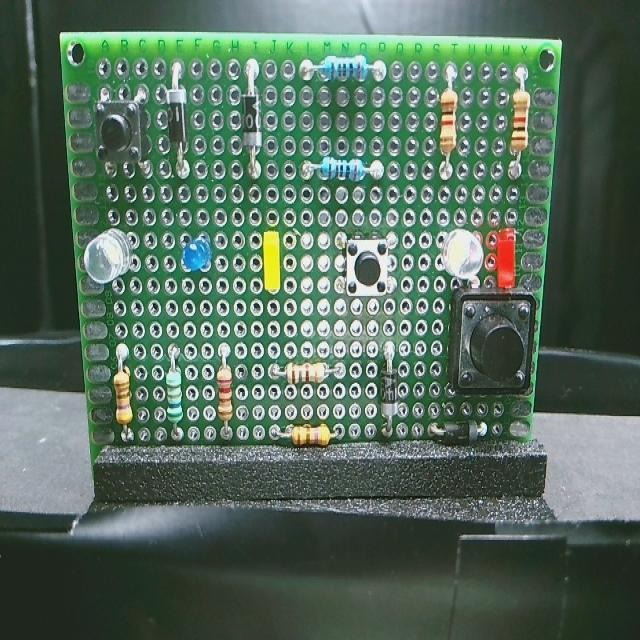diode: (370, 349, 406, 435), (238, 89, 273, 159), (162, 83, 194, 151), (422, 423, 487, 454)
led: (420, 227, 492, 286), (85, 222, 134, 288), (492, 224, 528, 288), (256, 228, 288, 286), (181, 230, 218, 272)
resistor: (295, 36, 377, 89), (100, 354, 140, 432), (305, 147, 376, 186), (436, 79, 462, 178), (278, 418, 336, 458), (206, 355, 238, 422), (156, 356, 187, 424), (506, 75, 530, 162), (278, 356, 326, 392)
switch: (449, 286, 533, 395), (339, 236, 402, 316), (91, 94, 157, 164)
